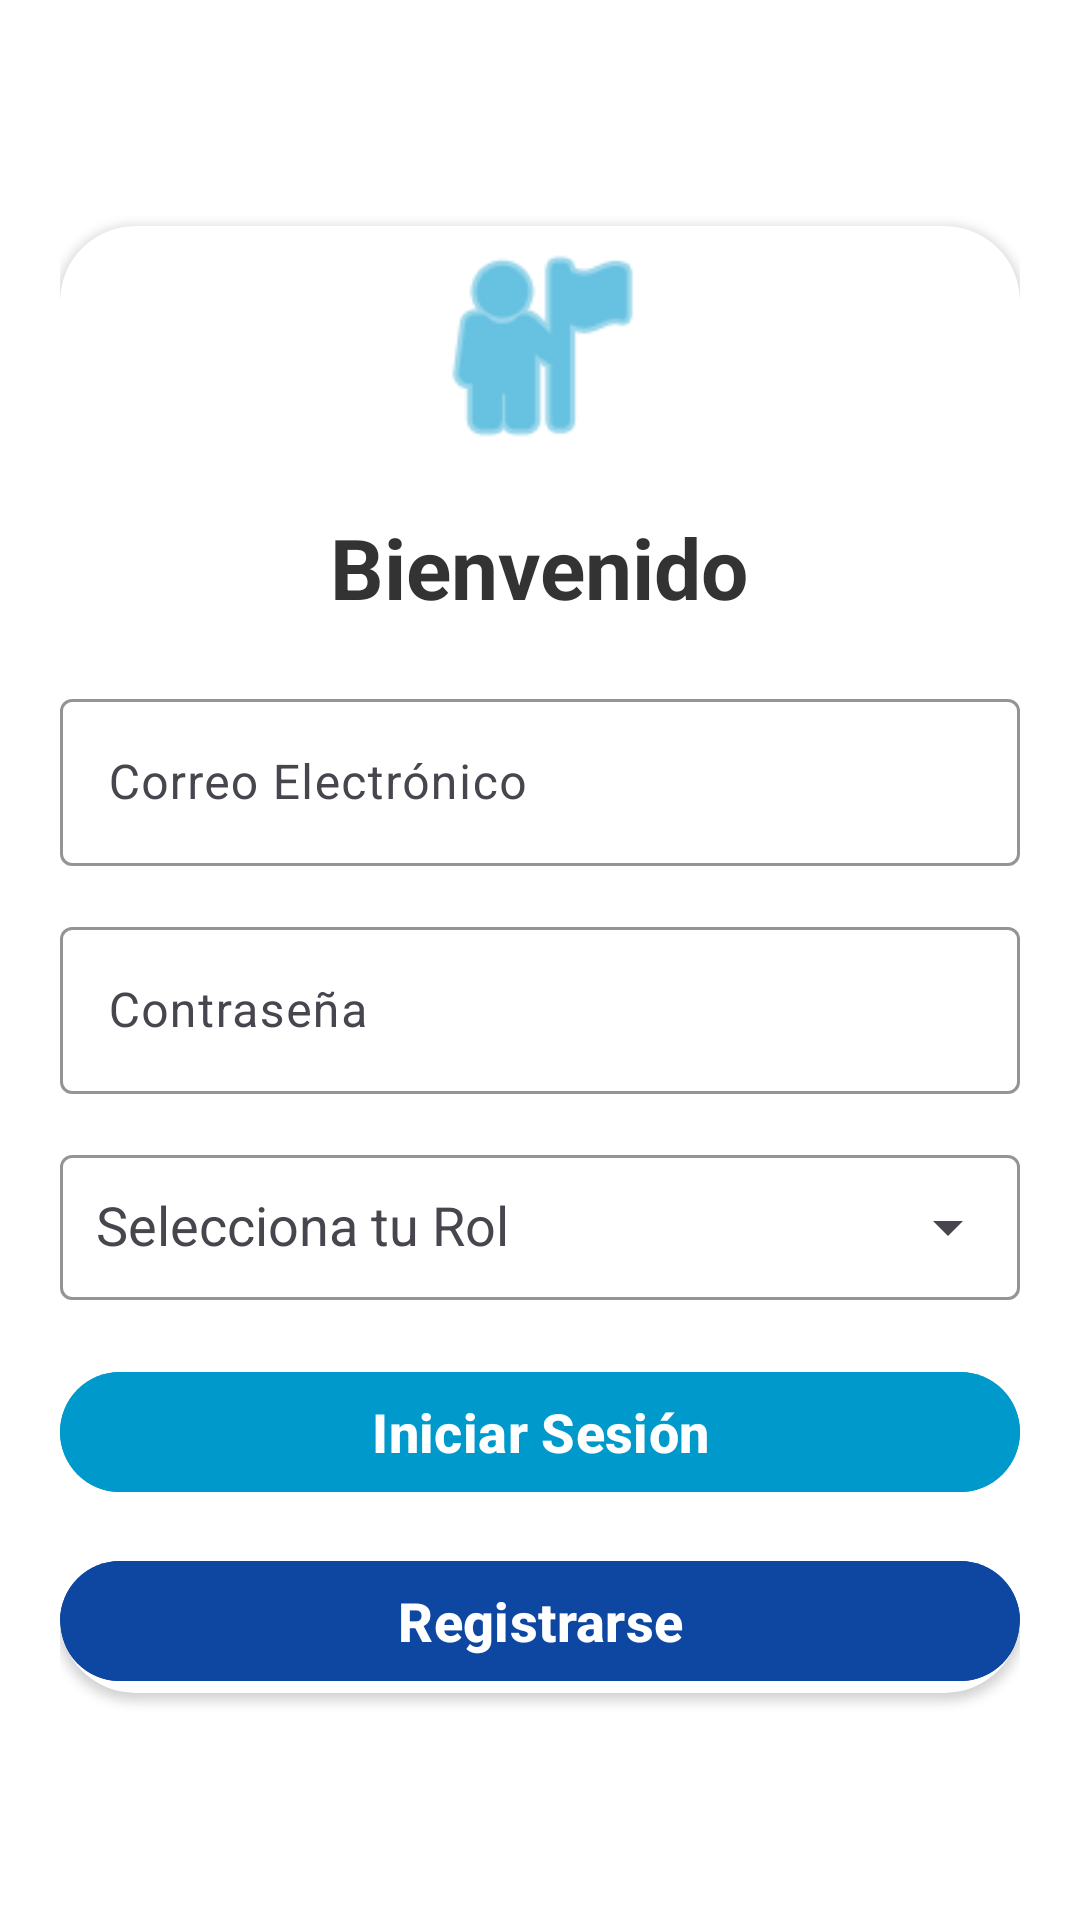

Icons on this 1080 x 1920 Android screen, each with the point to tap as point (x, y):
myplaces: point (542, 346)
